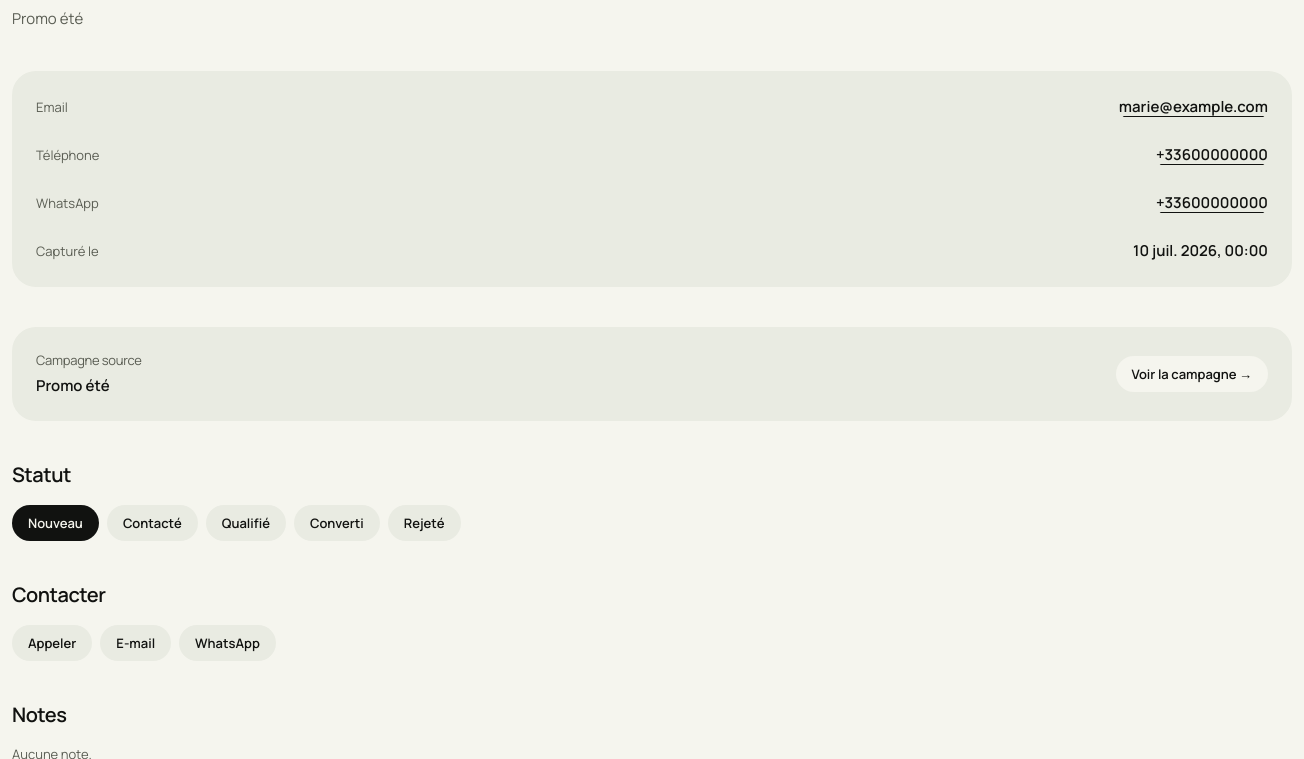
<LeadDetail /> (AC-9/10) › logs a contact attempt on the timeline
The width and height of the screenshot is (1304, 759).
What coordinates should you click on to do the following:
click the button with test id "contact-call"
I would click on:
 (52, 643)
Its box is [12,625,92,661].
(page scrolled)
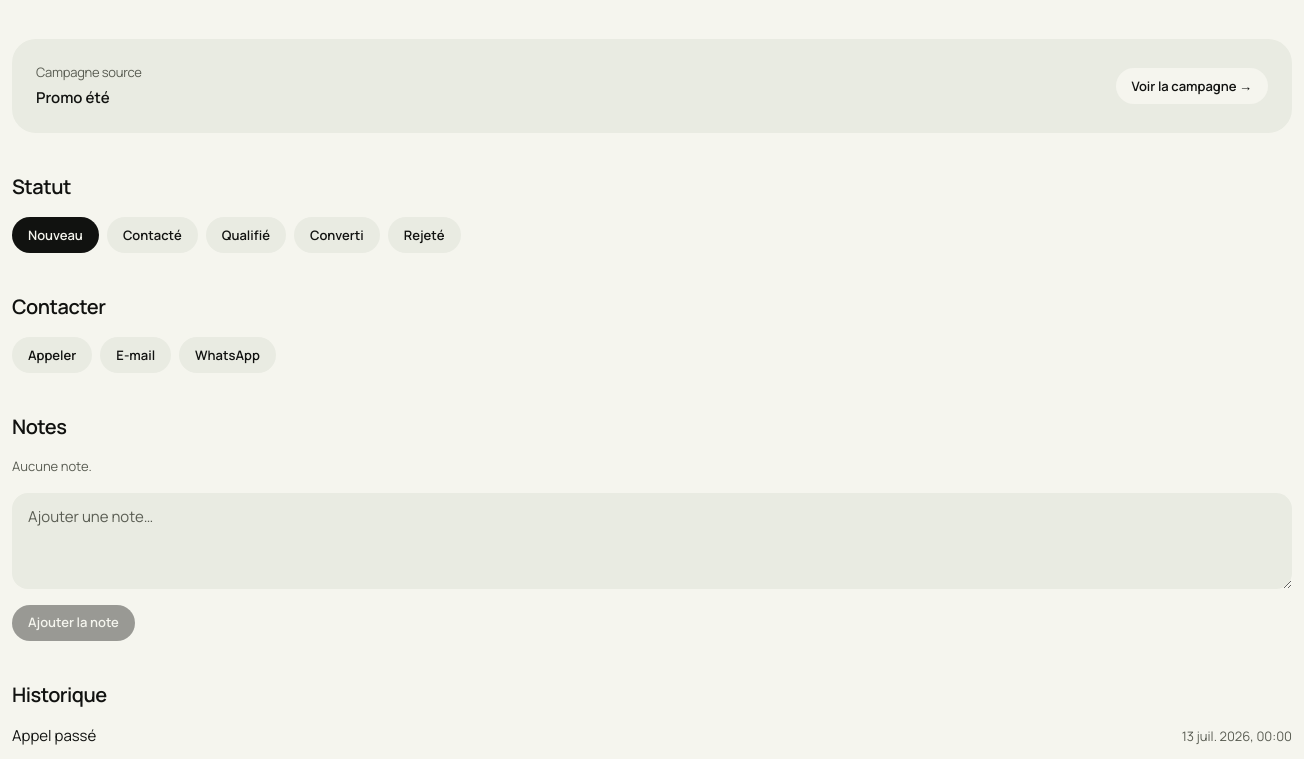
Expected: the list with test id "timeline" shows "Appel passé", [12,725,96,746]
